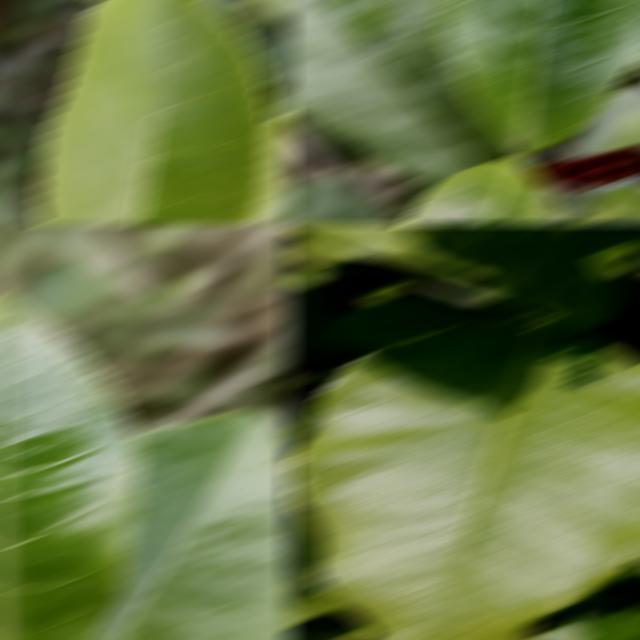Leaf: (289, 305, 640, 638), (34, 2, 274, 222), (0, 296, 141, 638), (85, 413, 292, 638), (284, 2, 505, 179), (437, 2, 640, 153), (403, 226, 640, 331), (399, 159, 556, 222), (14, 267, 119, 327), (291, 183, 392, 222), (603, 106, 640, 148), (593, 183, 640, 215), (284, 599, 331, 626)
